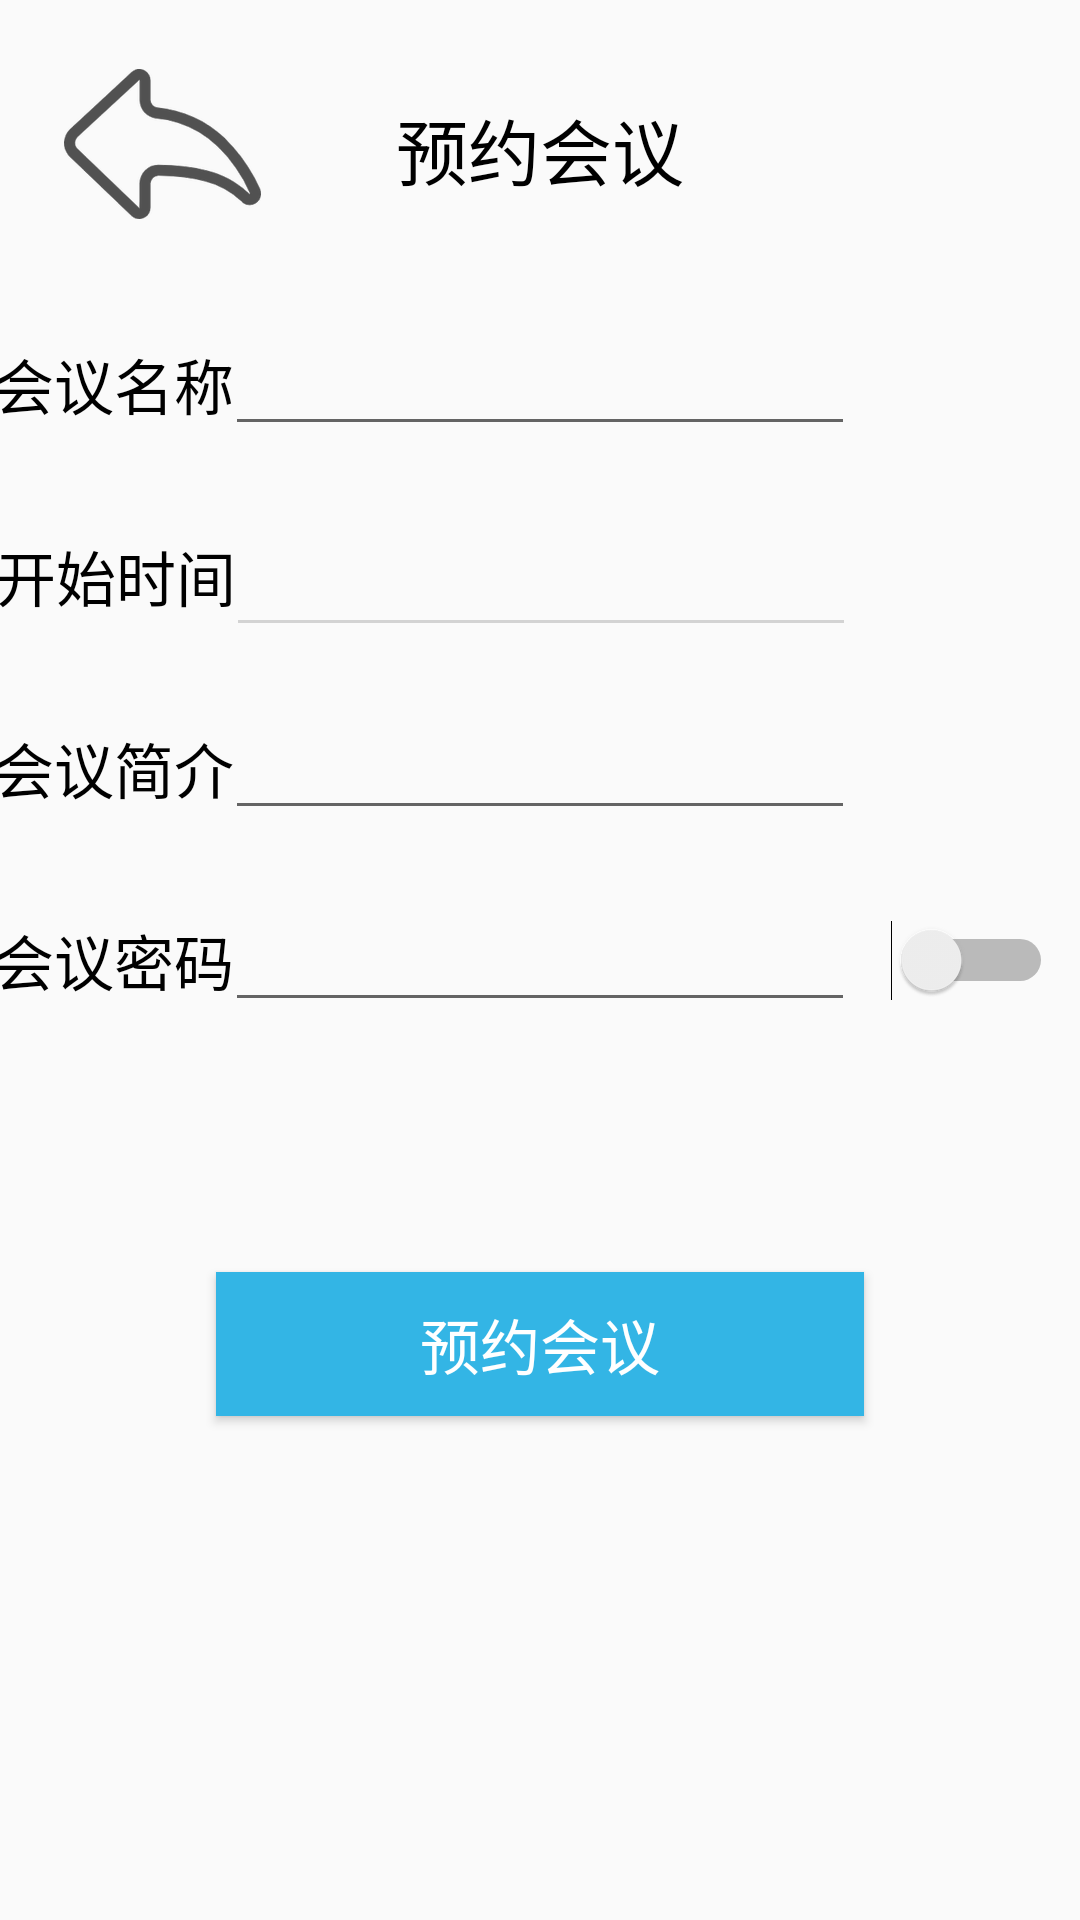

Icons on this 1080px x 1920px Android screen, each with its box as bbox=(x1, y1, x2, y2):
fanhui: bbox=(64, 69, 261, 219)
